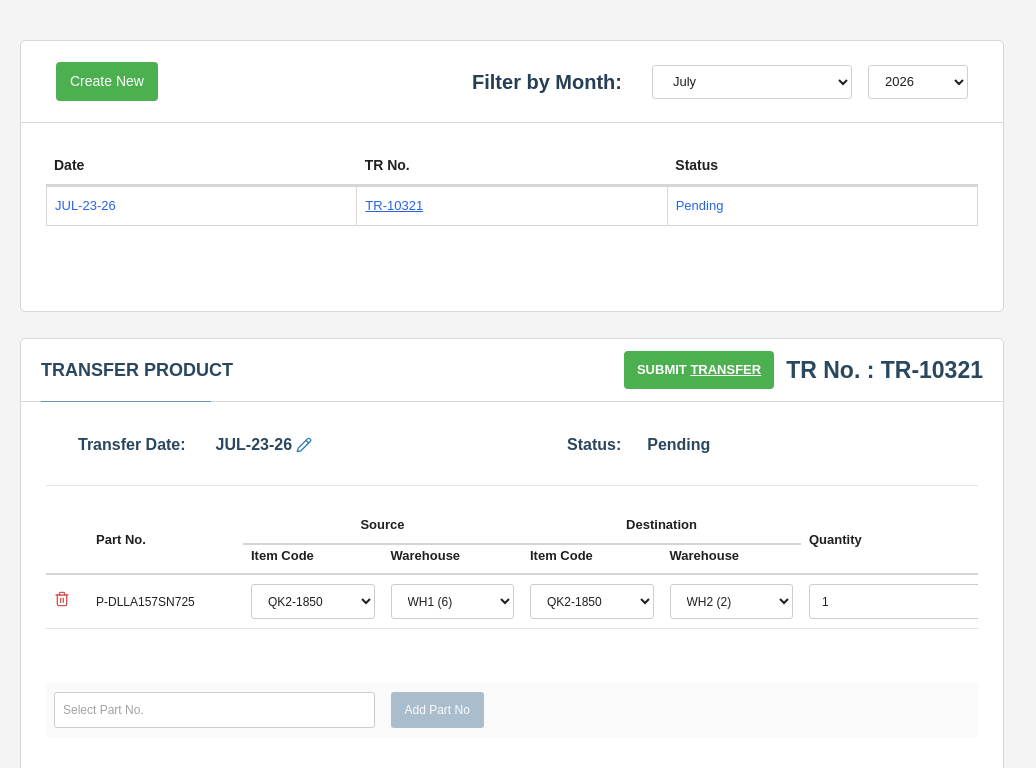
TransferStockView legacy parity › switches Create New to the legacy part-number-first screen
Check: the text "TR No. : TR-10321" is shown, box [786,353,983,387]
Click the button "Create New" at (107, 82), box [56,62,158,101]
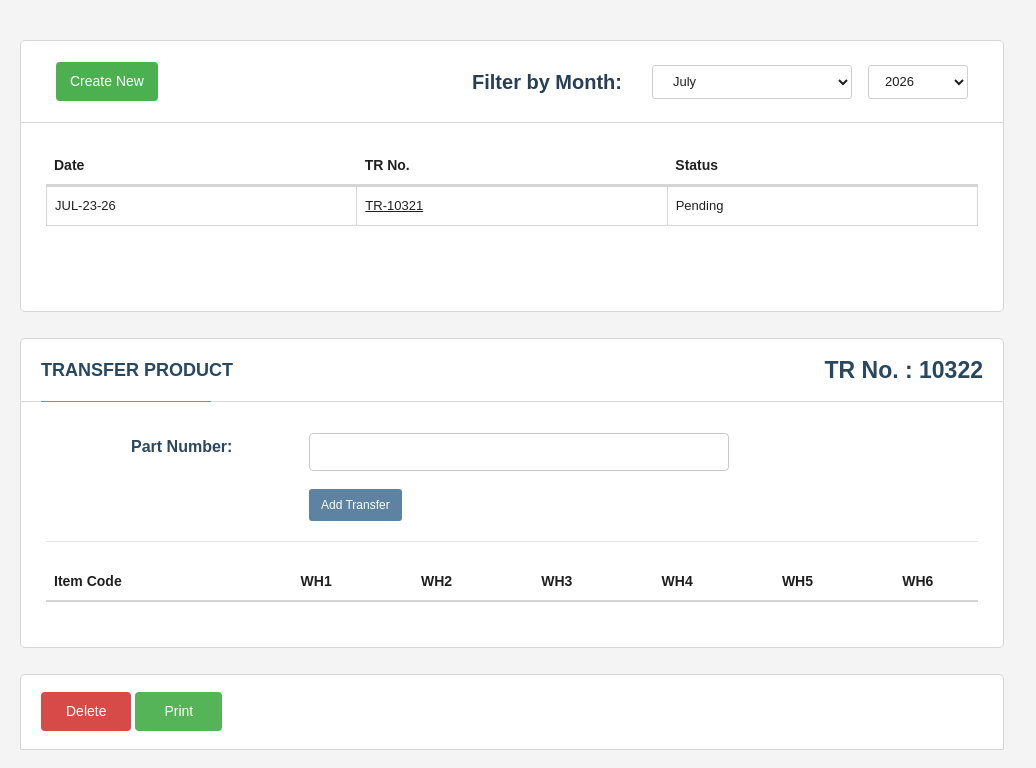
Check: the text "TR No. : 10322" is shown, box [824,353,983,387]
Check: the text "Part Number:" is shown, box [131,438,232,455]
Check: the button "Add Transfer" is shown, box [309,488,402,520]
